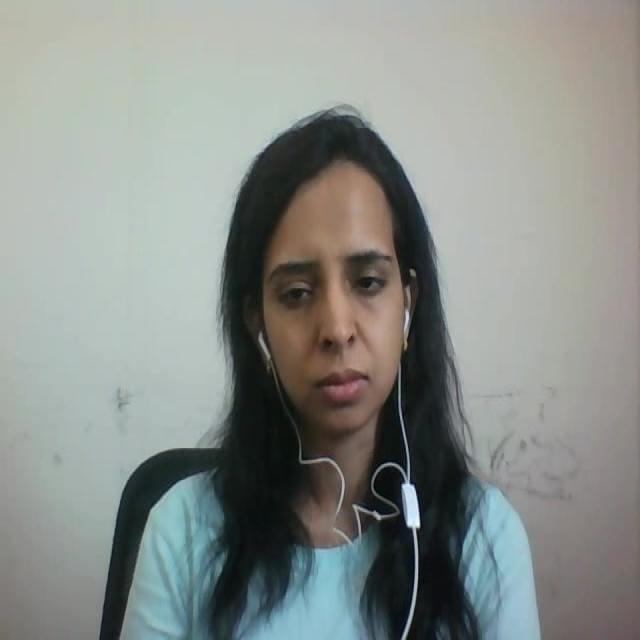Bored: (209, 96, 460, 472)
